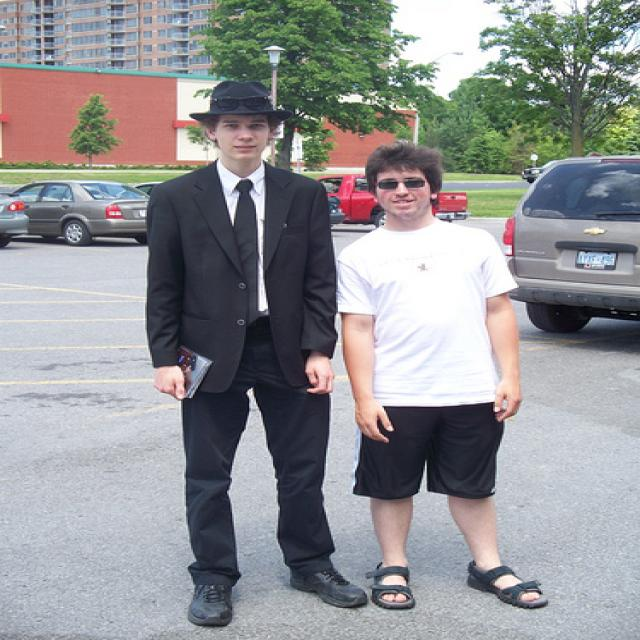Vehicle: (502, 153, 640, 334), (11, 179, 150, 247), (321, 177, 470, 224), (0, 186, 31, 248), (522, 159, 559, 184), (132, 181, 165, 195)
